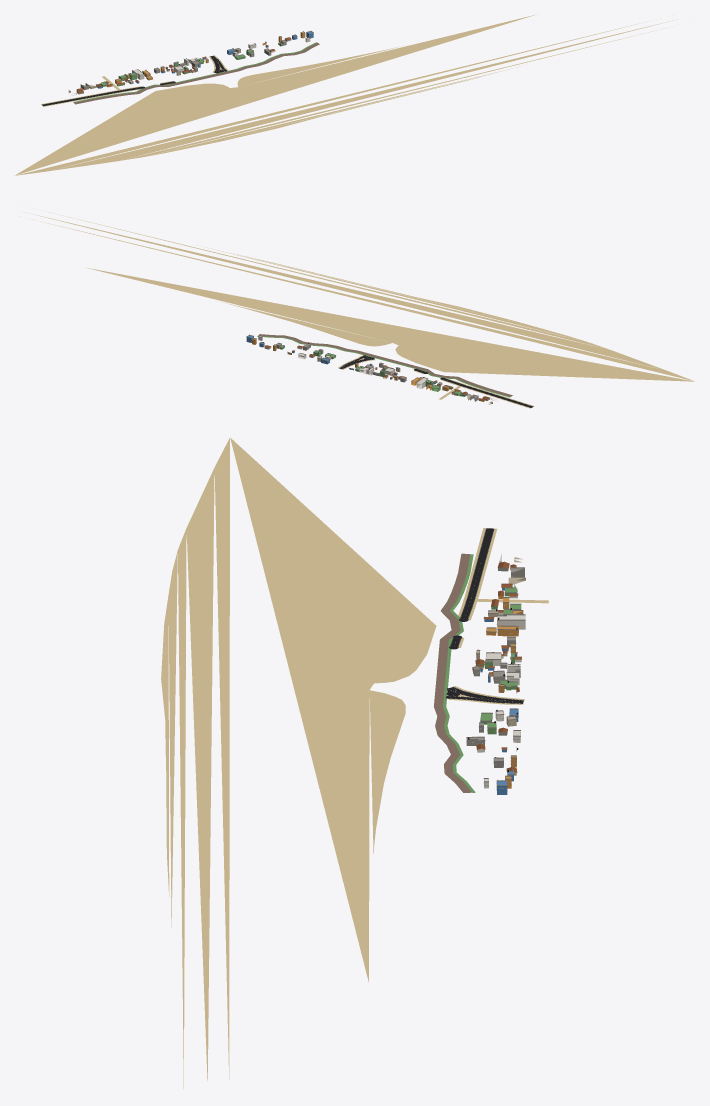
The model's file is zone_t-4_-1.glb.
3 renders of one model, top to bottom at view 1: azimuth 30°, elevation 25°; view 2: azimuth 150°, elevation 25°; view 3: azimuth 270°, elevation 25°, orthographic. The views are drawn at different scales.
Visible parts, largest first — view 1: zone_plage_t-4_-1, promenade_t-4_-1, parapet_t-4_-1, route_secondary_bitume_t-4_-1, piste_cyclable_t-4_-1, accotement_t-4_-1, bld_peinture_blanc_t-4_-1-col, bld_peinture_vert_t-4_-1-col, bld_beton_t-4_-1-col; view 2: zone_plage_t-4_-1, promenade_t-4_-1, parapet_t-4_-1, route_secondary_bitume_t-4_-1, bld_peinture_blanc_t-4_-1-col, accotement_t-4_-1, piste_cyclable_t-4_-1; view 3: zone_plage_t-4_-1, promenade_t-4_-1, route_secondary_bitume_t-4_-1, parapet_t-4_-1, bld_peinture_blanc_t-4_-1-col, accotement_t-4_-1.
Boxes of the visible parts, x1=… form: zone_plage_t-4_-1: x1=14, y1=14, x2=677, y2=175; promenade_t-4_-1: x1=74, y1=43, x2=319, y2=104; parapet_t-4_-1: x1=81, y1=31, x2=313, y2=86; route_secondary_bitume_t-4_-1: x1=42, y1=55, x2=227, y2=106; piste_cyclable_t-4_-1: x1=73, y1=42, x2=317, y2=102; accotement_t-4_-1: x1=41, y1=55, x2=227, y2=106; bld_peinture_blanc_t-4_-1-col: x1=71, y1=38, x2=310, y2=95; bld_peinture_vert_t-4_-1-col: x1=96, y1=42, x2=282, y2=86; bld_beton_t-4_-1-col: x1=76, y1=40, x2=286, y2=94; zone_plage_t-4_-1: x1=25, y1=212, x2=694, y2=381; promenade_t-4_-1: x1=258, y1=334, x2=512, y2=396; parapet_t-4_-1: x1=246, y1=335, x2=478, y2=398; route_secondary_bitume_t-4_-1: x1=339, y1=355, x2=533, y2=407; bld_peinture_blanc_t-4_-1-col: x1=258, y1=336, x2=497, y2=401; accotement_t-4_-1: x1=338, y1=355, x2=534, y2=408; piste_cyclable_t-4_-1: x1=257, y1=336, x2=509, y2=397; zone_plage_t-4_-1: x1=161, y1=437, x2=436, y2=1088; promenade_t-4_-1: x1=434, y1=553, x2=471, y2=792; route_secondary_bitume_t-4_-1: x1=445, y1=528, x2=523, y2=703; parapet_t-4_-1: x1=466, y1=567, x2=525, y2=785; bld_peinture_blanc_t-4_-1-col: x1=472, y1=553, x2=525, y2=788; accotement_t-4_-1: x1=448, y1=528, x2=524, y2=704.
Bounding box in the file's own units: 1368 × 11 × 343.
